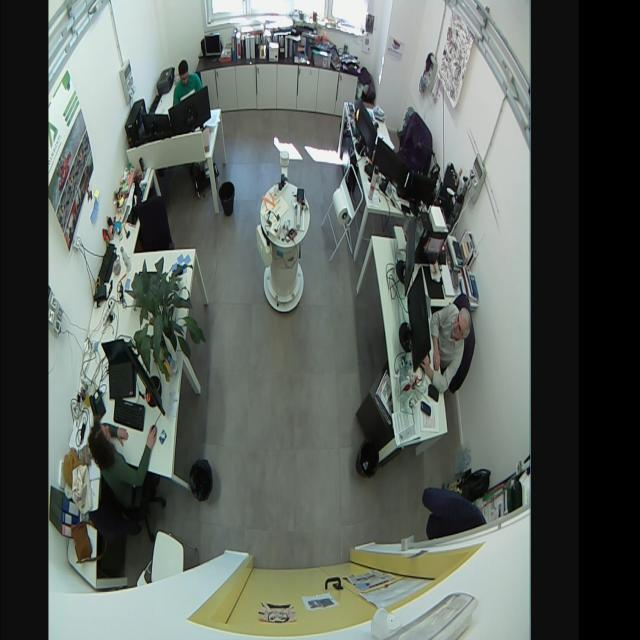Close: (254, 562, 353, 628)
Persona: (88, 414, 159, 502), (425, 301, 473, 399), (168, 54, 205, 108)
